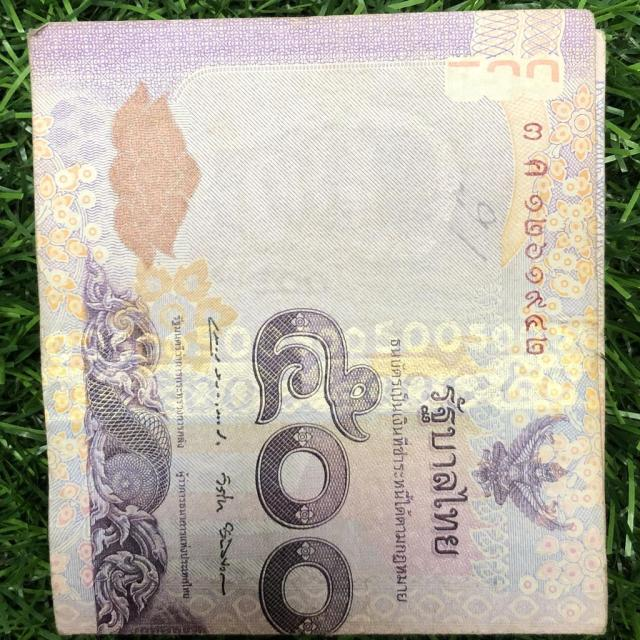THAI500: (29, 9, 613, 639)
